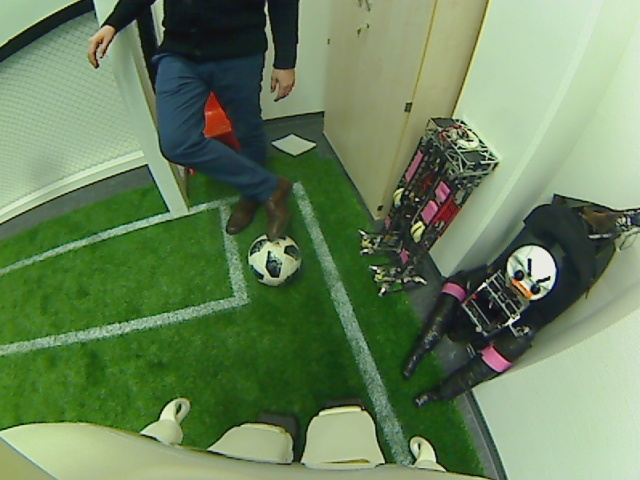ball: (246, 232, 301, 288)
